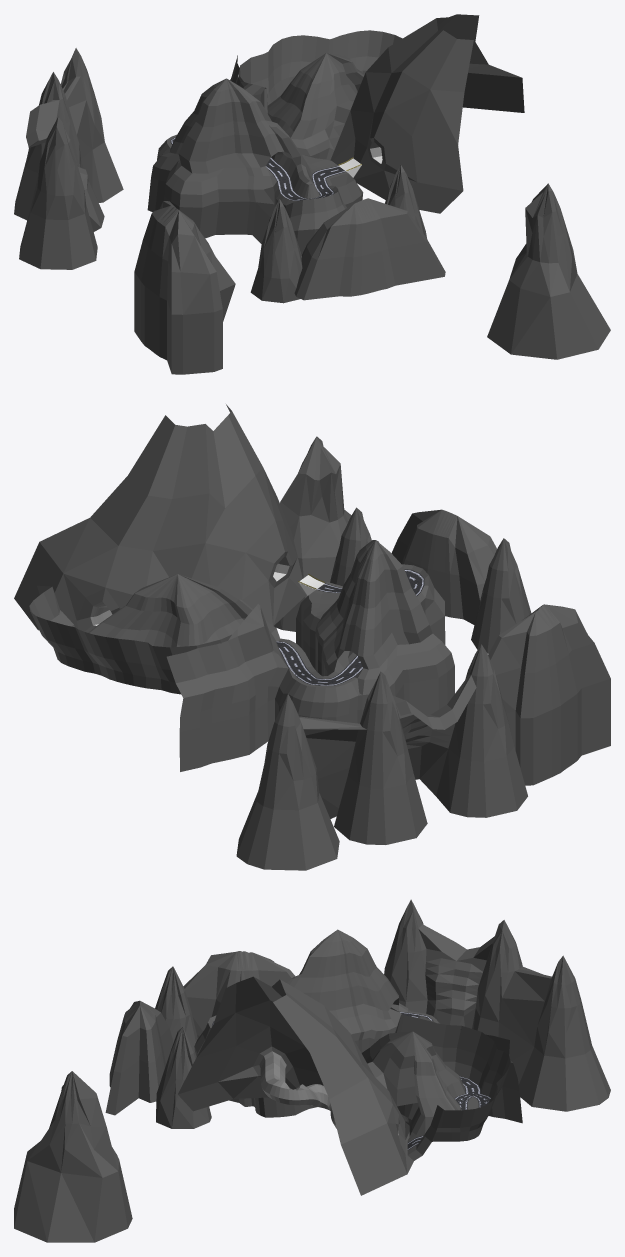
The model's file is Mountains_fbx.fbx.
The picture shows the model from 3 angles, top to bottom: view 1: azimuth 30°, elevation 25°; view 2: azimuth 150°, elevation 25°; view 3: azimuth 270°, elevation 25°; orthographic projection. The views are drawn at different scales.
Parts seen in each view (by area): view 1: Ground, Cylinder.005, Cylinder.002, Cylinder.004, Cylinder.001, Cylinder, Road, Cylinder.003; view 2: Ground, Cylinder.005, Cylinder.002, Cylinder.001, Cylinder.004, Cylinder, Road, Cylinder.003; view 3: Ground, Cylinder.005, Cylinder.004, Cylinder.001, Cylinder.002, Cylinder.003, Cylinder, Road.
Boxes of the visible parts, x1,y1,x2,y2 form: Ground: (147,14,524,254); Cylinder.005: (14,48,123,269); Cylinder.002: (134,201,235,374); Cylinder.004: (487,183,610,359); Cylinder.001: (294,198,445,300); Cylinder: (250,199,302,303); Road: (170,96,361,201); Cylinder.003: (385,165,426,238); Ground: (14,404,454,771); Cylinder.005: (236,644,527,870); Cylinder.002: (488,604,610,785); Cylinder.001: (391,509,496,624); Cylinder.004: (274,436,351,631); Cylinder: (471,538,531,653); Road: (276,569,424,685); Cylinder.003: (330,507,371,586); Ground: (178,929,522,1195); Cylinder.005: (384,899,610,1111); Cylinder.004: (14,1071,132,1242); Cylinder.001: (105,1000,173,1115); Cylinder.002: (183,951,294,1038); Cylinder.003: (156,1027,211,1128); Cylinder: (155,966,197,1049); Road: (212,1011,490,1149).
Size of the model in its own units: 124047 by 61004 by 136485.
